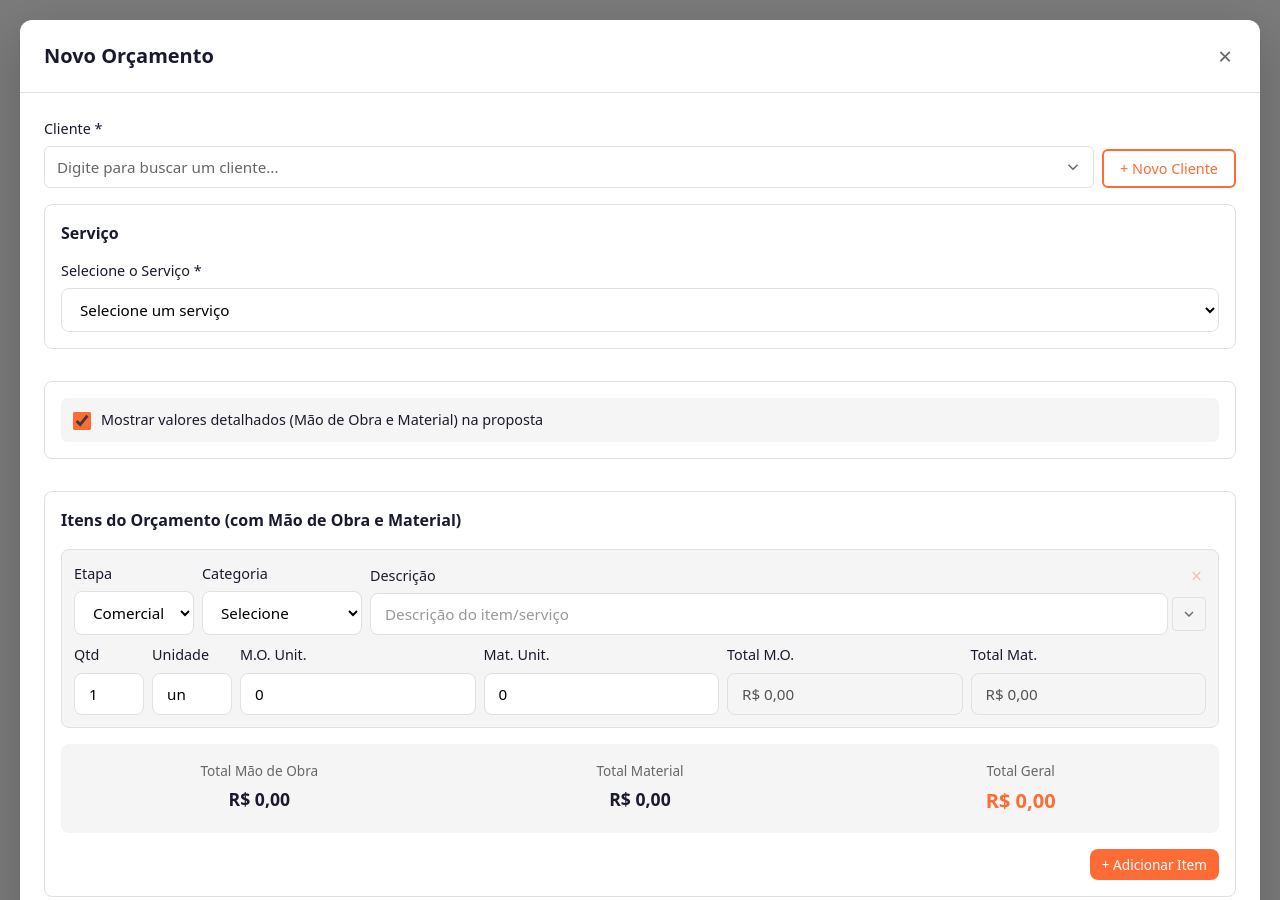
Test case: OrcamentoModal › Validação de orçamento simples › deve mostrar erro quando itens vazios
This screenshot has width=1280, height=900.
Focus the field with placeholder "Digite para buscar um cliente..." at (569, 167), box [44,146,1094,188]
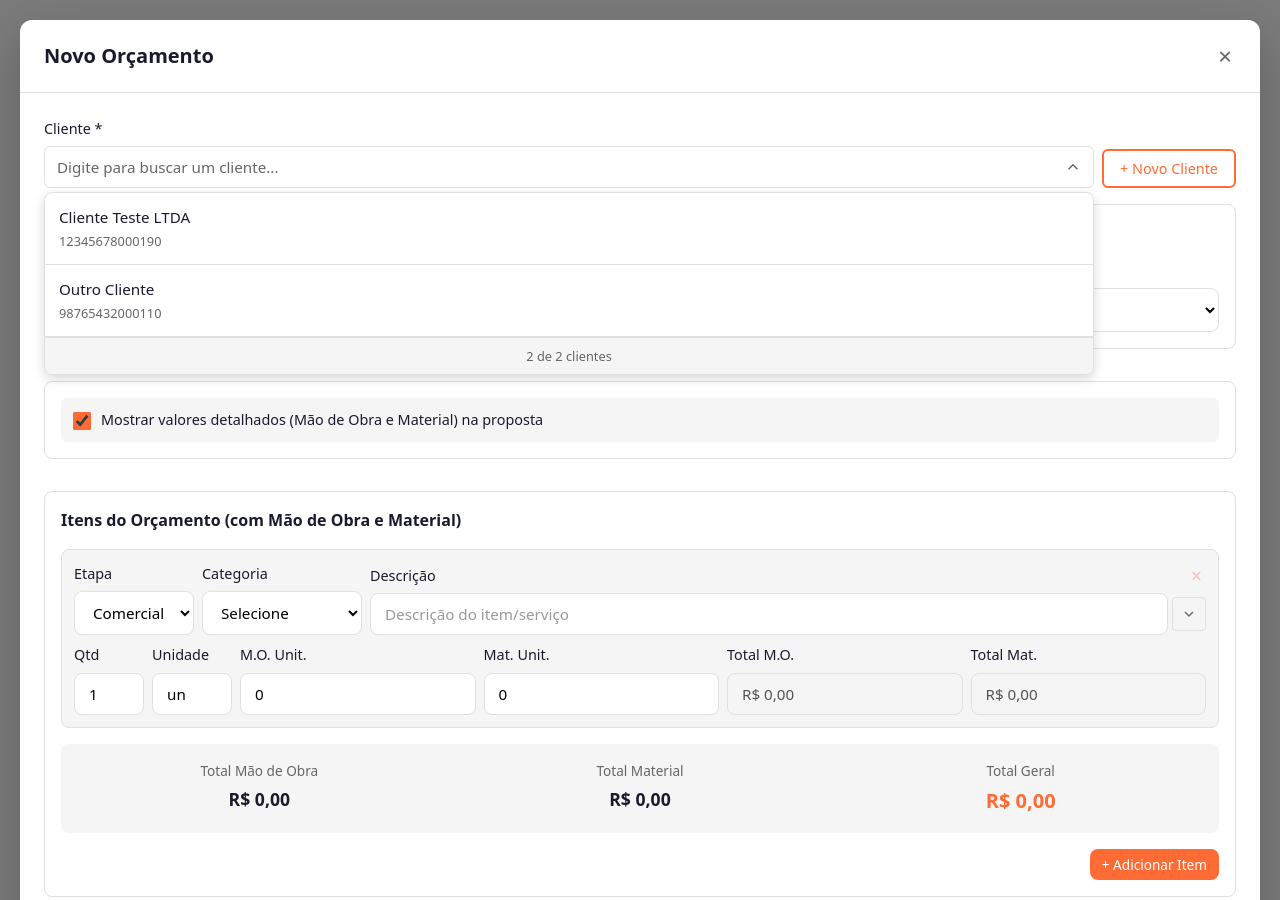
Expected: the text "Cliente Teste LTDA" is shown
Click the text "Cliente Teste LTDA" at (125, 217), box [59,207,190,227]
(page scrolled)
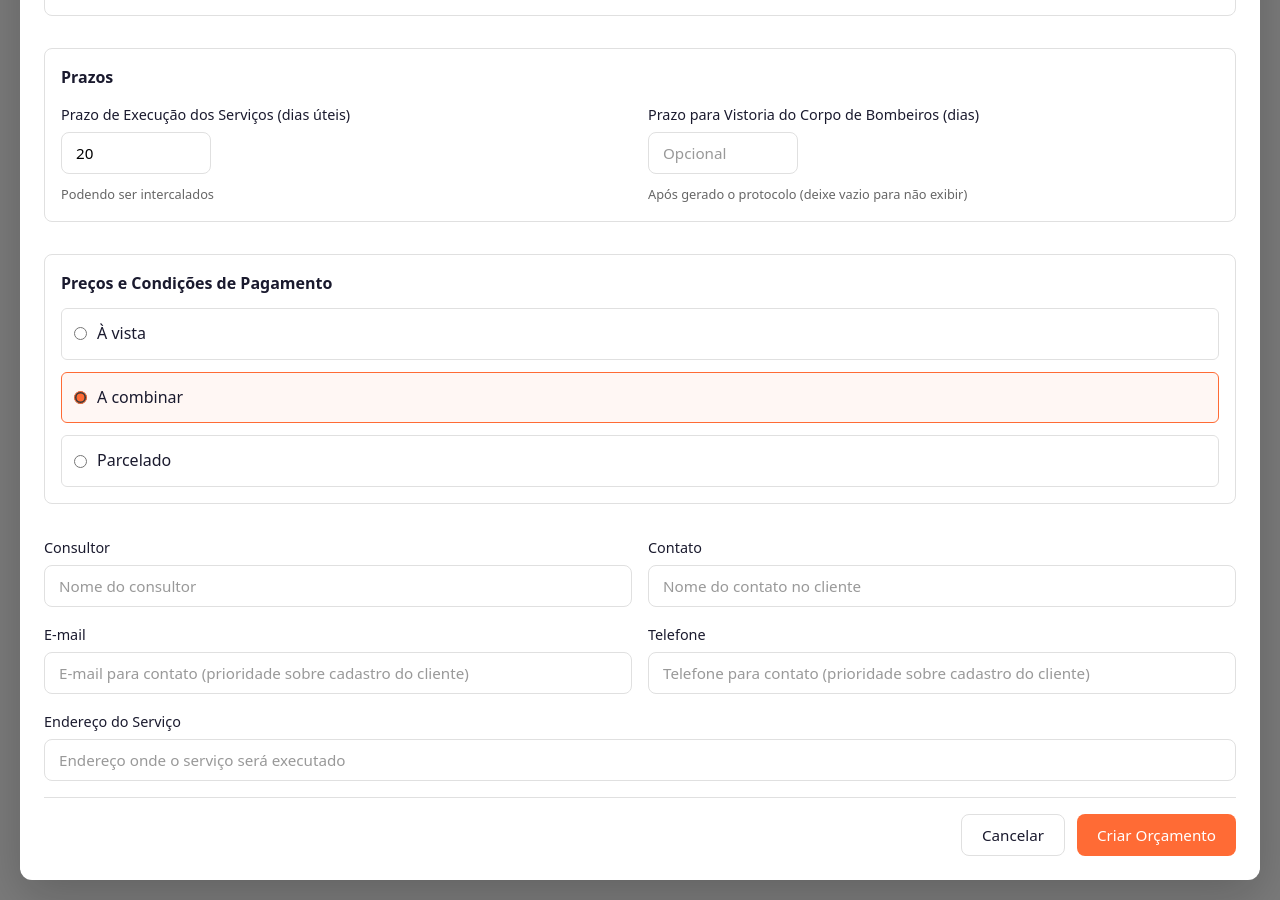
Click the button "Criar Orçamento" at (1156, 835), box [1077,814,1236,856]
(page scrolled)
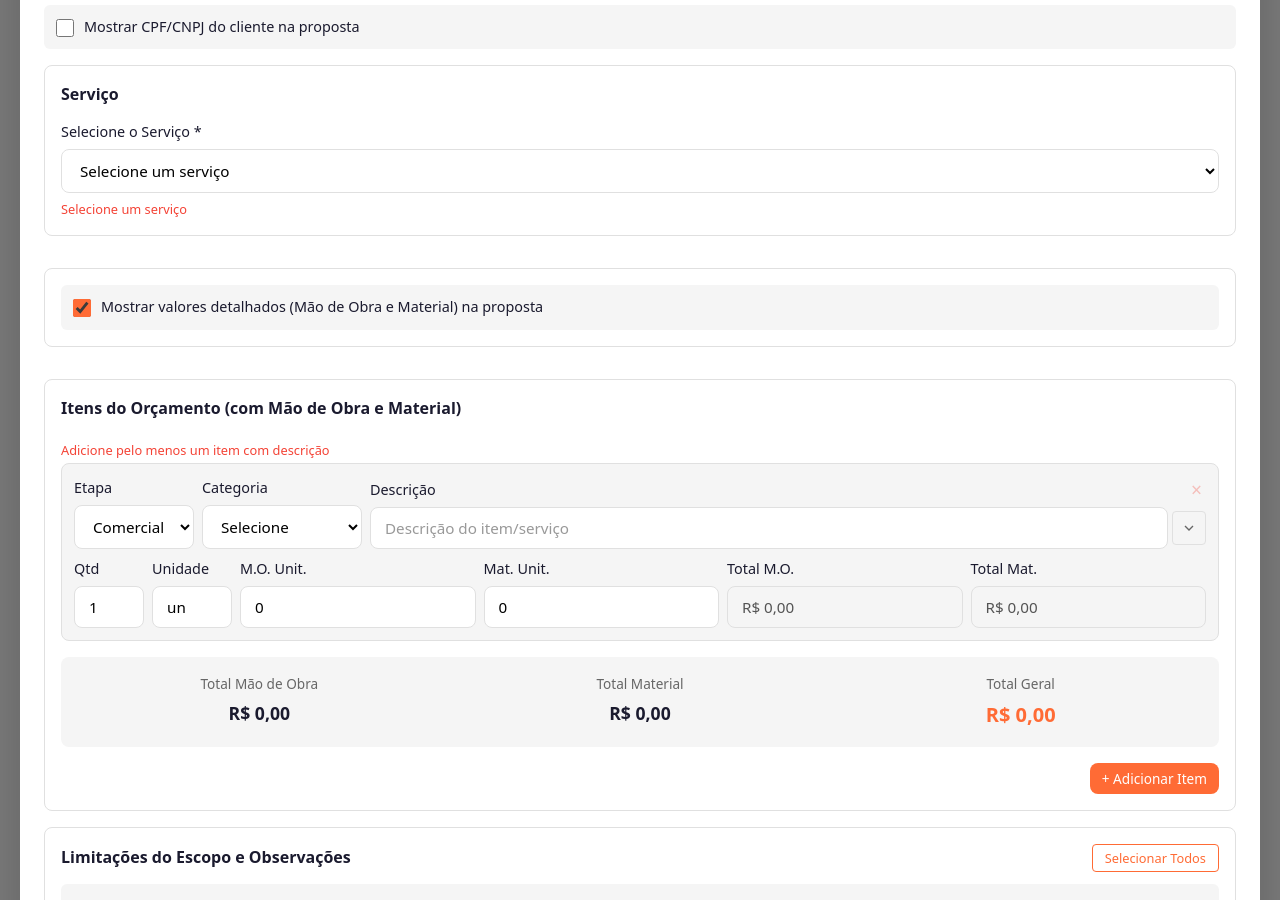
Expected: the text "Adicione pelo menos um item com descrição" is shown, [61,441,330,459]
